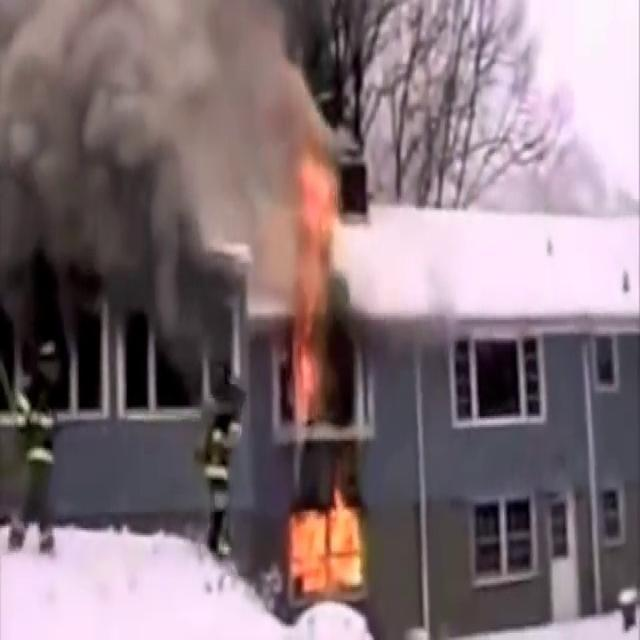Fire: (284, 150, 342, 419), (284, 488, 366, 598)
Smoke: (0, 0, 337, 382)
